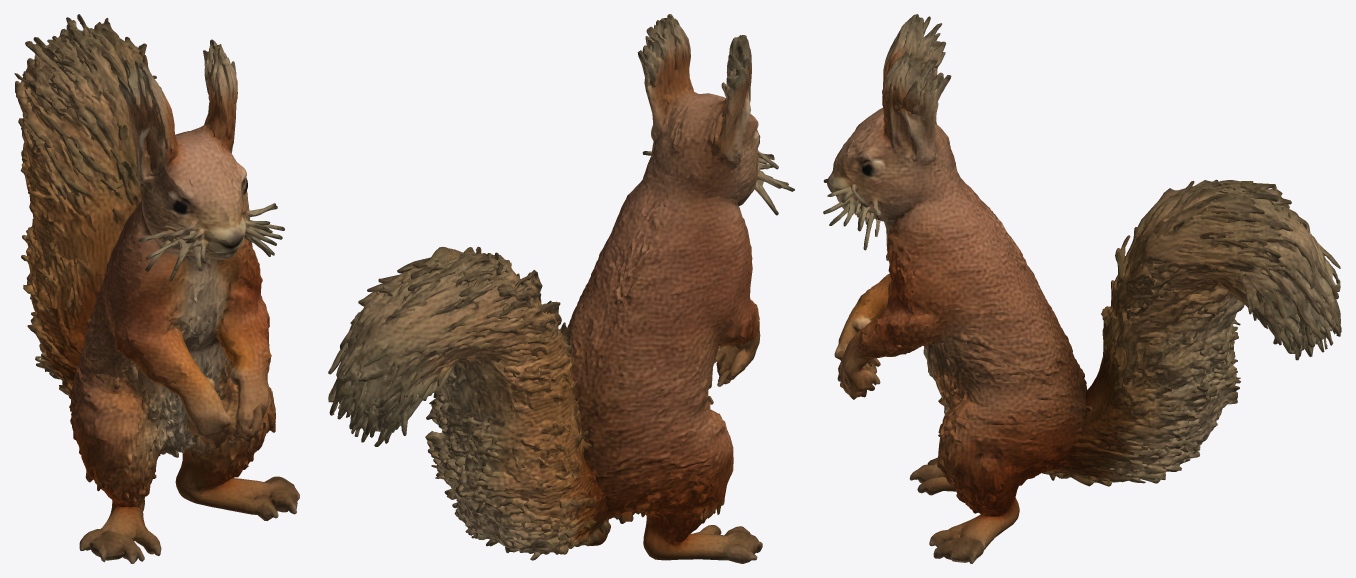
Rendered from red-squirrel-v21-lod.glb.
3 views of the same model, side by side, from view 1: azimuth 30°, elevation 25°; view 2: azimuth 150°, elevation 25°; view 3: azimuth 270°, elevation 25° (orthographic). The views are drawn at different scales.
Visible parts, largest first — view 1: geometry_0; view 2: geometry_0; view 3: geometry_0.
Part boxes in pixels (box(x1,y1,x2,y2)): geometry_0: box(14, 14, 299, 563); geometry_0: box(328, 14, 794, 563); geometry_0: box(823, 14, 1341, 563).
Bounding box in the file's own units: 0.1481 × 0.3 × 0.2997.
Materials: 1 (1 with a texture image).
